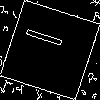I: (24, 24, 72, 53)
